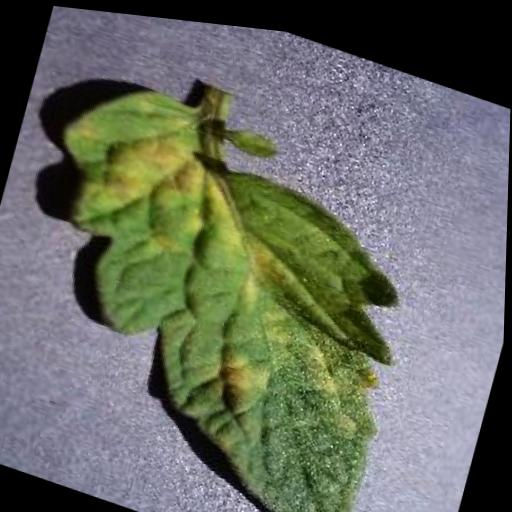Leaf Mold: (0, 55, 445, 512)
